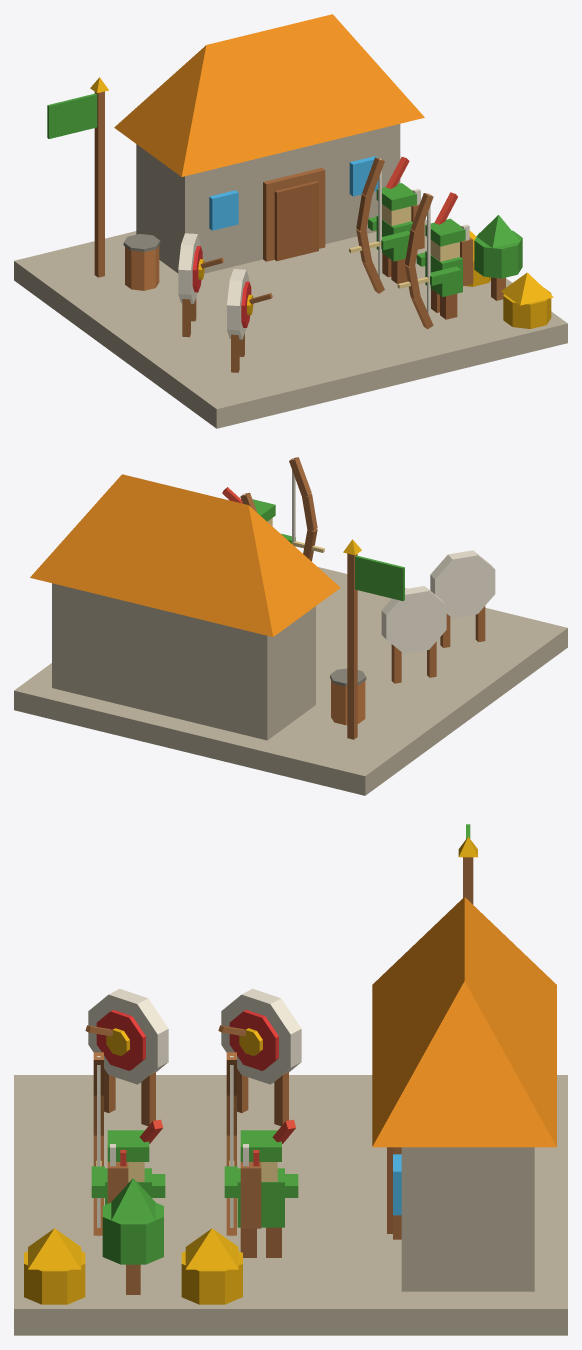
Rendered from archery_range_t2_v2.glb.
3 renders of one model, top to bottom at view 1: azimuth 30°, elevation 25°; view 2: azimuth 150°, elevation 25°; view 3: azimuth 270°, elevation 25°, orthographic. The views are drawn at different scales.
Parts seen in each view (by area): view 1: archery_range_t2_v2; view 2: archery_range_t2_v2; view 3: archery_range_t2_v2.
Part boxes in pixels (x1,y1,x2,y2): archery_range_t2_v2: [14, 14, 567, 428]; archery_range_t2_v2: [14, 457, 567, 795]; archery_range_t2_v2: [14, 824, 567, 1335].
Size of the model in its own units: 0.755 by 0.46 by 0.75.
1 material, 1 textured.
